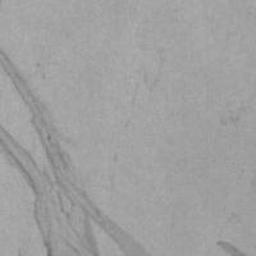Water spot: (0, 35, 160, 256), (215, 234, 246, 255)
